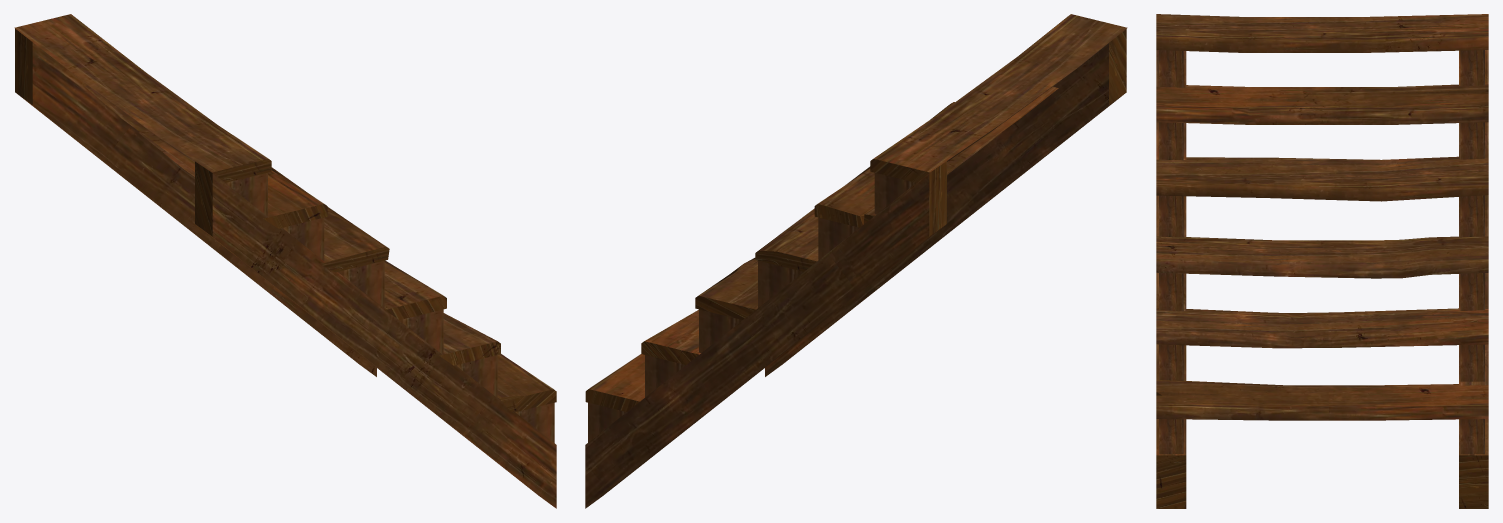
The picture shows the model from 3 angles, left to right: view 1: azimuth 30°, elevation 25°; view 2: azimuth 150°, elevation 25°; view 3: azimuth 270°, elevation 25°; orthographic projection. The views are drawn at different scales.
Parts seen in each view (by area): view 1: SM_BB_T2_Stairs_LOD0; view 2: SM_BB_T2_Stairs_LOD0; view 3: SM_BB_T2_Stairs_LOD0.
Part boxes in pixels (x1=…): SM_BB_T2_Stairs_LOD0: x1=14, y1=14, x2=556, y2=508; SM_BB_T2_Stairs_LOD0: x1=585, y1=14, x2=1127, y2=508; SM_BB_T2_Stairs_LOD0: x1=1156, y1=14, x2=1488, y2=508.
Bounding box in the file's own units: 1.51 × 1.76 × 1.5.
Materials: 1 (1 with a texture image).
